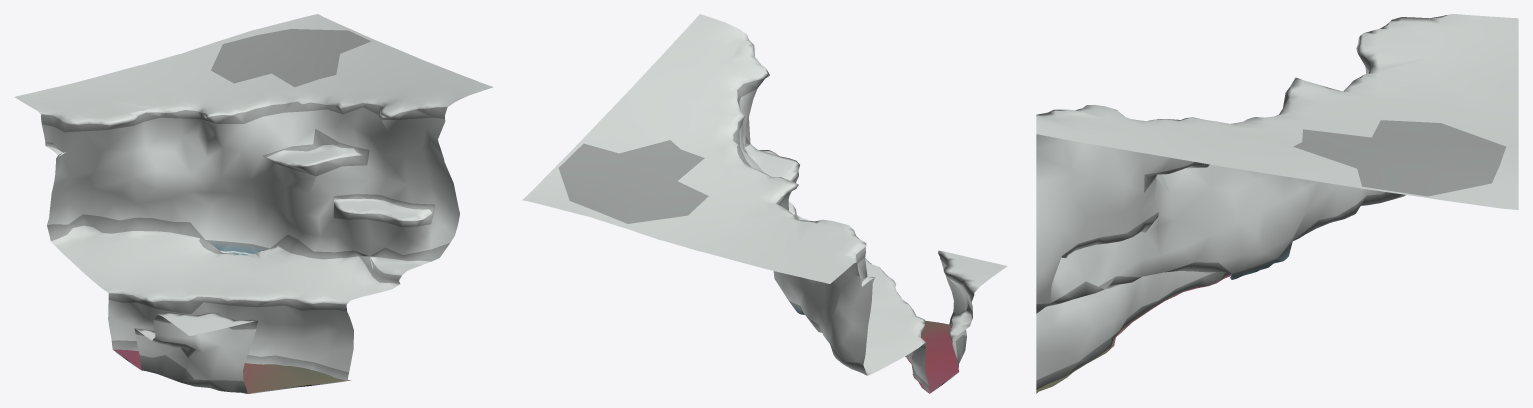
3 views of the same model, side by side, from view 1: azimuth 30°, elevation 25°; view 2: azimuth 150°, elevation 25°; view 3: azimuth 270°, elevation 25° (orthographic). The views are drawn at different scales.
Visible parts, largest first — view 1: G:\FFXIV-MapTools\exports\r2f1\bg\ex1\01_roc_r2\fld\r2f1\bgp (×6); view 2: G:\FFXIV-MapTools\exports\r2f1\bg\ex1\01_roc_r2\fld\r2f1\bgp (×6); view 3: G:\FFXIV-MapTools\exports\r2f1\bg\ex1\01_roc_r2\fld\r2f1\bgp (×5).
Part boxes in pixels (bbox=[...]): G:\FFXIV-MapTools\exports\r2f1\bg\ex1\01_roc_r2\fld\r2f1\bgp (×6): bbox=[14, 14, 493, 393]; G:\FFXIV-MapTools\exports\r2f1\bg\ex1\01_roc_r2\fld\r2f1\bgp (×6): bbox=[522, 14, 1007, 393]; G:\FFXIV-MapTools\exports\r2f1\bg\ex1\01_roc_r2\fld\r2f1\bgp (×5): bbox=[1036, 14, 1518, 389].
Bounding box in the file's own units: 128 × 104 × 128.
